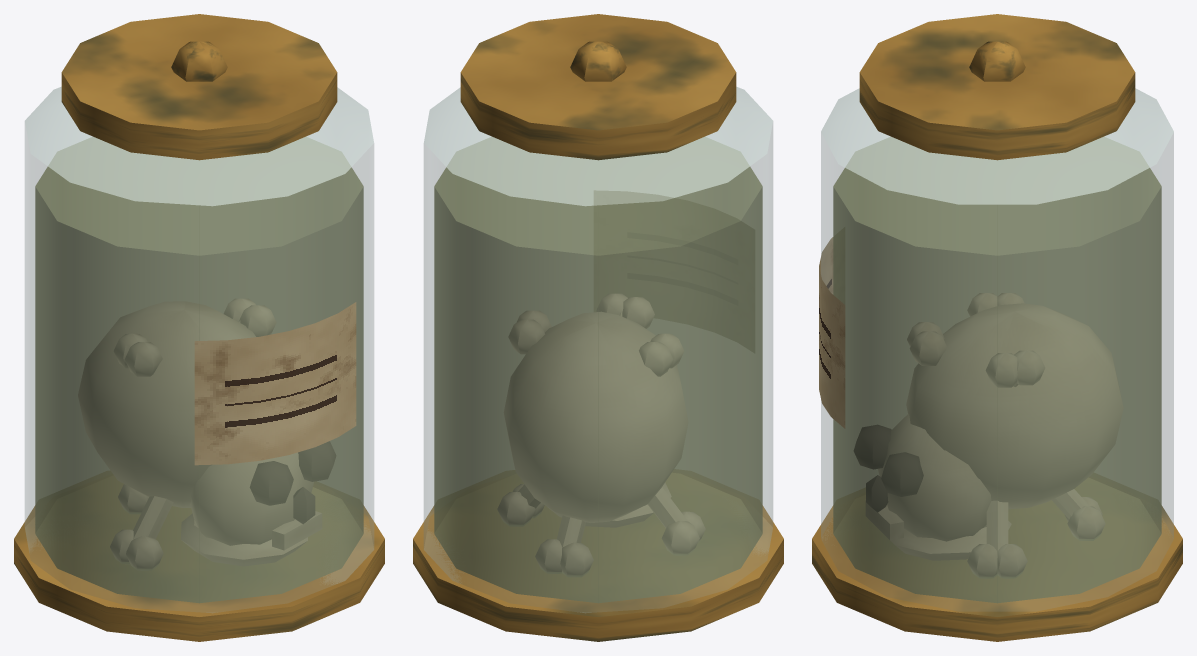
File: specimen_jar_bones.glb
3 views of the same model, side by side, from view 1: azimuth 30°, elevation 25°; view 2: azimuth 150°, elevation 25°; view 3: azimuth 270°, elevation 25° (orthographic).
Parts seen in each view (by area): view 1: specimen_jar_bones; view 2: specimen_jar_bones; view 3: specimen_jar_bones.
Boxes of the visible parts, left/top/right/bottom form: specimen_jar_bones: left=14, top=14, right=384, bottom=641; specimen_jar_bones: left=413, top=14, right=783, bottom=641; specimen_jar_bones: left=812, top=14, right=1182, bottom=641.
Size of the model in its own units: 0.42 by 0.652 by 0.42.
Materials: 6 (3 with a texture image).
